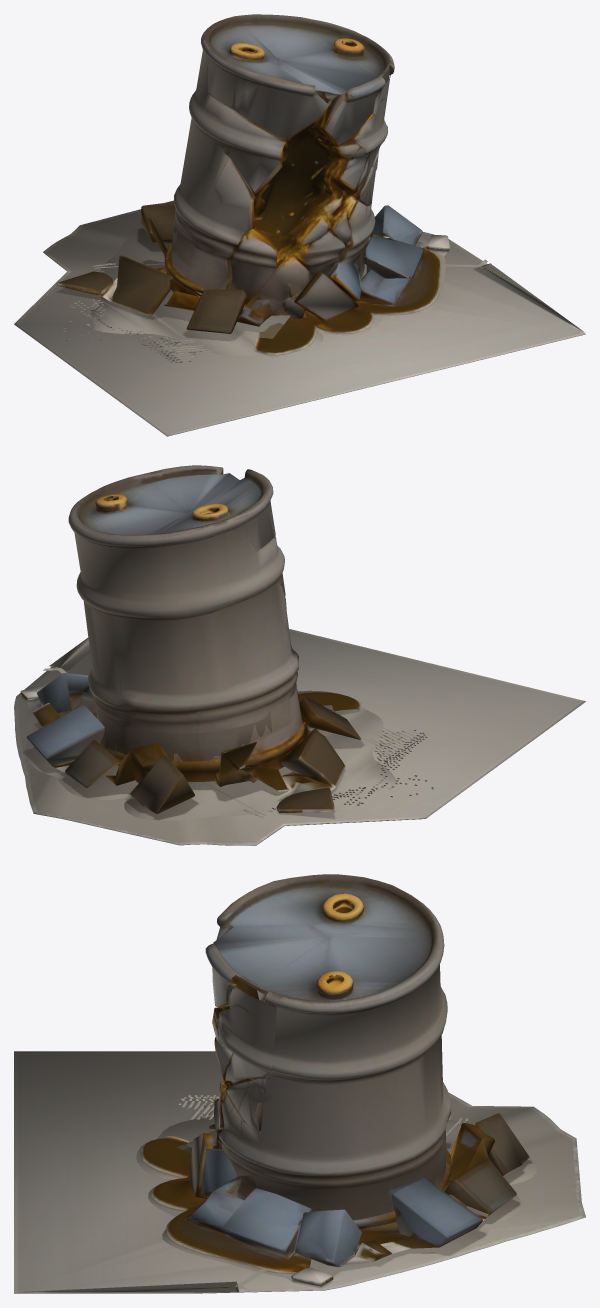
Rendered from crushed_oil_barrel_e450f43f_v2.glb.
The picture shows the model from 3 angles, top to bottom: view 1: azimuth 30°, elevation 25°; view 2: azimuth 150°, elevation 25°; view 3: azimuth 270°, elevation 25°; orthographic projection. The views are drawn at different scales.
Visible parts, largest first — view 1: material; view 2: material; view 3: material.
Boxes of the visible parts, bbox=[...] form: material: bbox=[14, 14, 585, 436]; material: bbox=[14, 465, 585, 845]; material: bbox=[14, 874, 585, 1293].
Size of the model in its own units: 1.9 by 1.04 by 1.9.
1 material, 1 textured.
